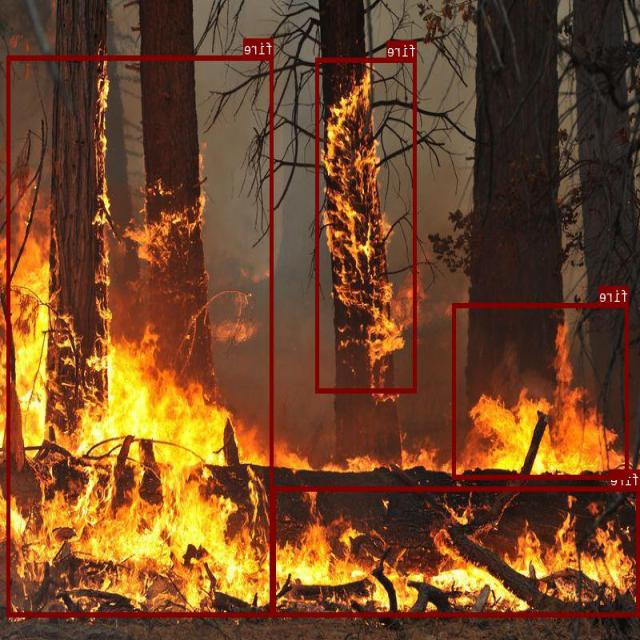fire: (7, 55, 274, 616), (273, 486, 640, 616), (316, 57, 417, 392), (453, 303, 629, 478)
